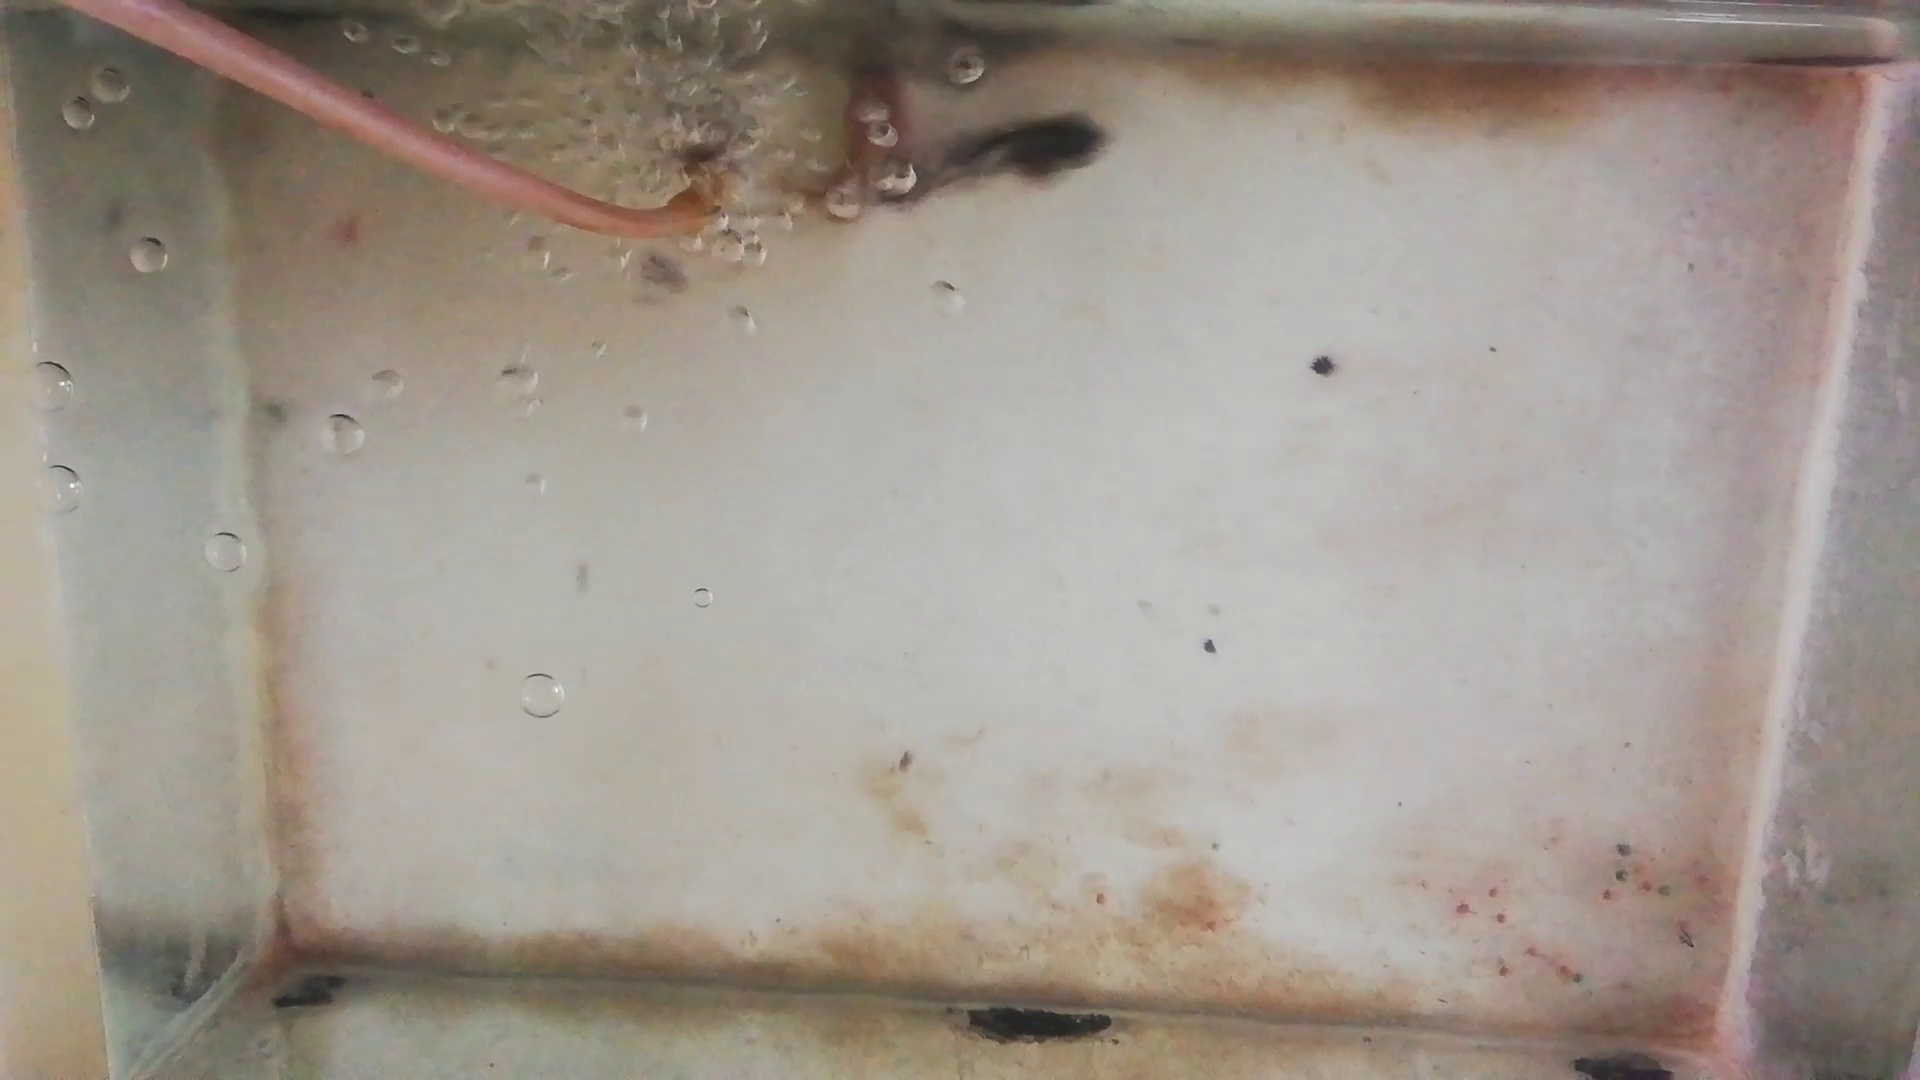fish: (783, 46, 902, 204), (902, 109, 1112, 198)
